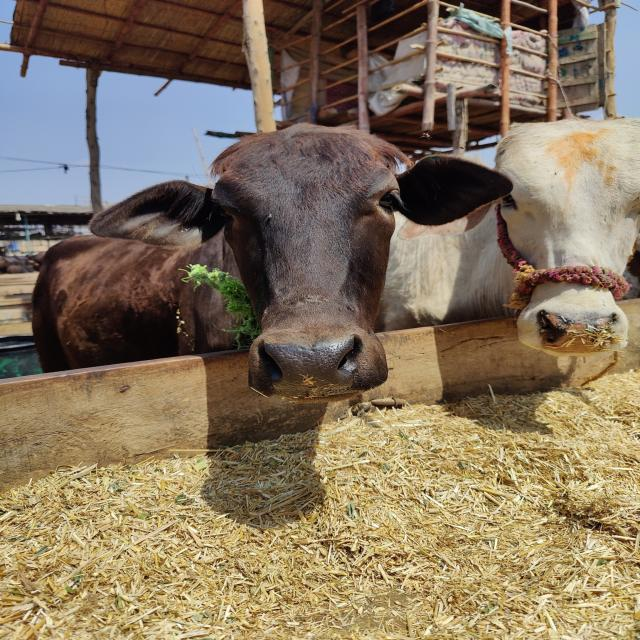muzzles: (246, 327, 384, 400), (525, 304, 625, 355)
